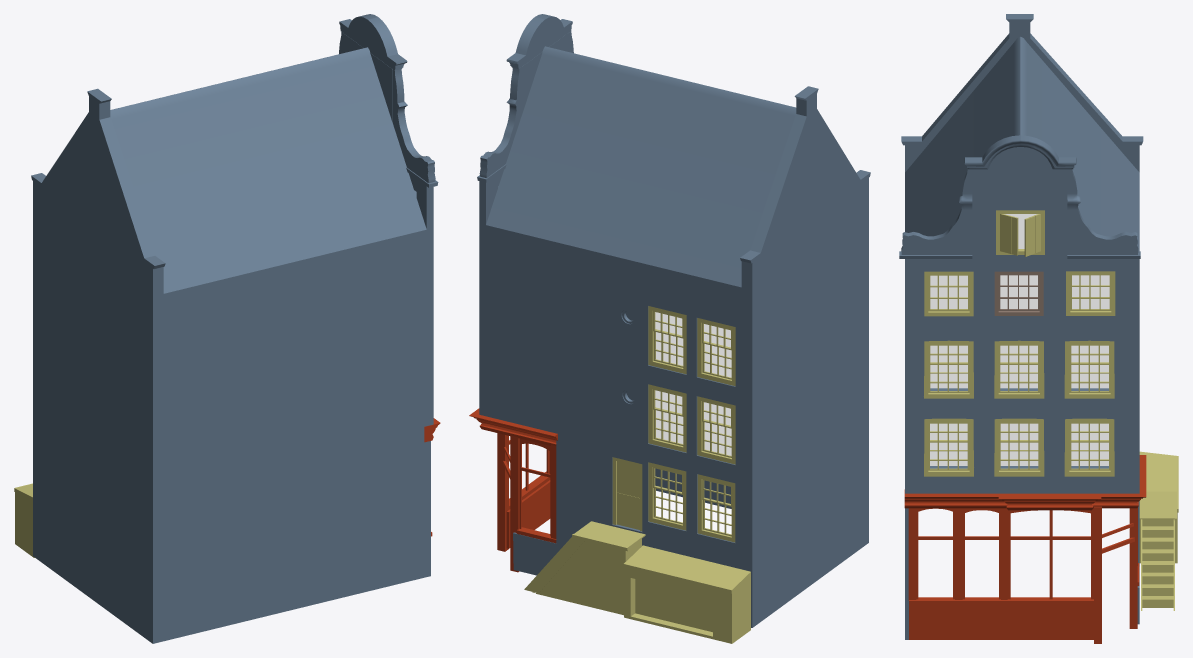
The model's file is Sample_house_bloemstraat44_amsterdam.fbx.
3 views of the same model, side by side, from view 1: azimuth 30°, elevation 25°; view 2: azimuth 150°, elevation 25°; view 3: azimuth 270°, elevation 25° (orthographic). The views are drawn at different scales.
Parts seen in each view (by area): view 1: brick_wall, roof, gable_top_bell_sides, gable_crest, pothuis; view 2: brick_wall, roof, pothuis, 35_stairs.001, ground_floor_window_frame, Cube.233, gable_top_bell_sides, gable_crest, door.035, brick_wall.001, ground_floor_window_frame_beam, window_frame_square.015 (+6 smaller); view 3: brick_wall, roof, Cube.233, ground_floor_window_frame, brick_wall.001, gable_top_bell_sides, 35_stairs.002, ground_floor_window_frame_beam, gable_crest, ground_floor_window_frame_beam.001, pothuis, 35_stairs.001 (+27 smaller).
Part boxes in pixels (bbox=[...]): brick_wall: bbox=[31, 33, 433, 643]; roof: bbox=[110, 47, 426, 293]; gable_top_bell_sides: bbox=[339, 31, 438, 187]; gable_crest: bbox=[339, 14, 407, 70]; pothuis: bbox=[14, 483, 34, 557]; brick_wall: bbox=[479, 32, 870, 627]; roof: bbox=[486, 46, 796, 287]; pothuis: bbox=[623, 545, 750, 643]; 35_stairs.001: bbox=[524, 521, 645, 615]; ground_floor_window_frame: bbox=[497, 433, 556, 572]; Cube.233: bbox=[655, 312, 731, 455]; gable_top_bell_sides: bbox=[477, 31, 573, 182]; gable_crest: bbox=[506, 14, 572, 69]; door.035: bbox=[617, 461, 639, 529]; brick_wall.001: bbox=[506, 480, 550, 548]; ground_floor_window_frame_beam: bbox=[469, 408, 557, 445]; window_frame_square.015: bbox=[697, 474, 735, 542]; brick_wall: bbox=[901, 14, 1143, 639]; roof: bbox=[905, 36, 1139, 251]; Cube.233: bbox=[930, 214, 1109, 465]; ground_floor_window_frame: bbox=[908, 506, 1139, 643]; brick_wall.001: bbox=[909, 605, 1093, 639]; gable_top_bell_sides: bbox=[899, 168, 1140, 258]; 35_stairs.002: bbox=[1142, 519, 1173, 607]; ground_floor_window_frame_beam: bbox=[904, 455, 1146, 508]; gable_crest: bbox=[964, 135, 1076, 169]; ground_floor_window_frame_beam.001: bbox=[998, 493, 1101, 510]; pothuis: bbox=[1139, 451, 1178, 563]; 35_stairs.001: bbox=[1139, 491, 1176, 610].
Size of the model in its own units: 847 by 1427 by 716.
